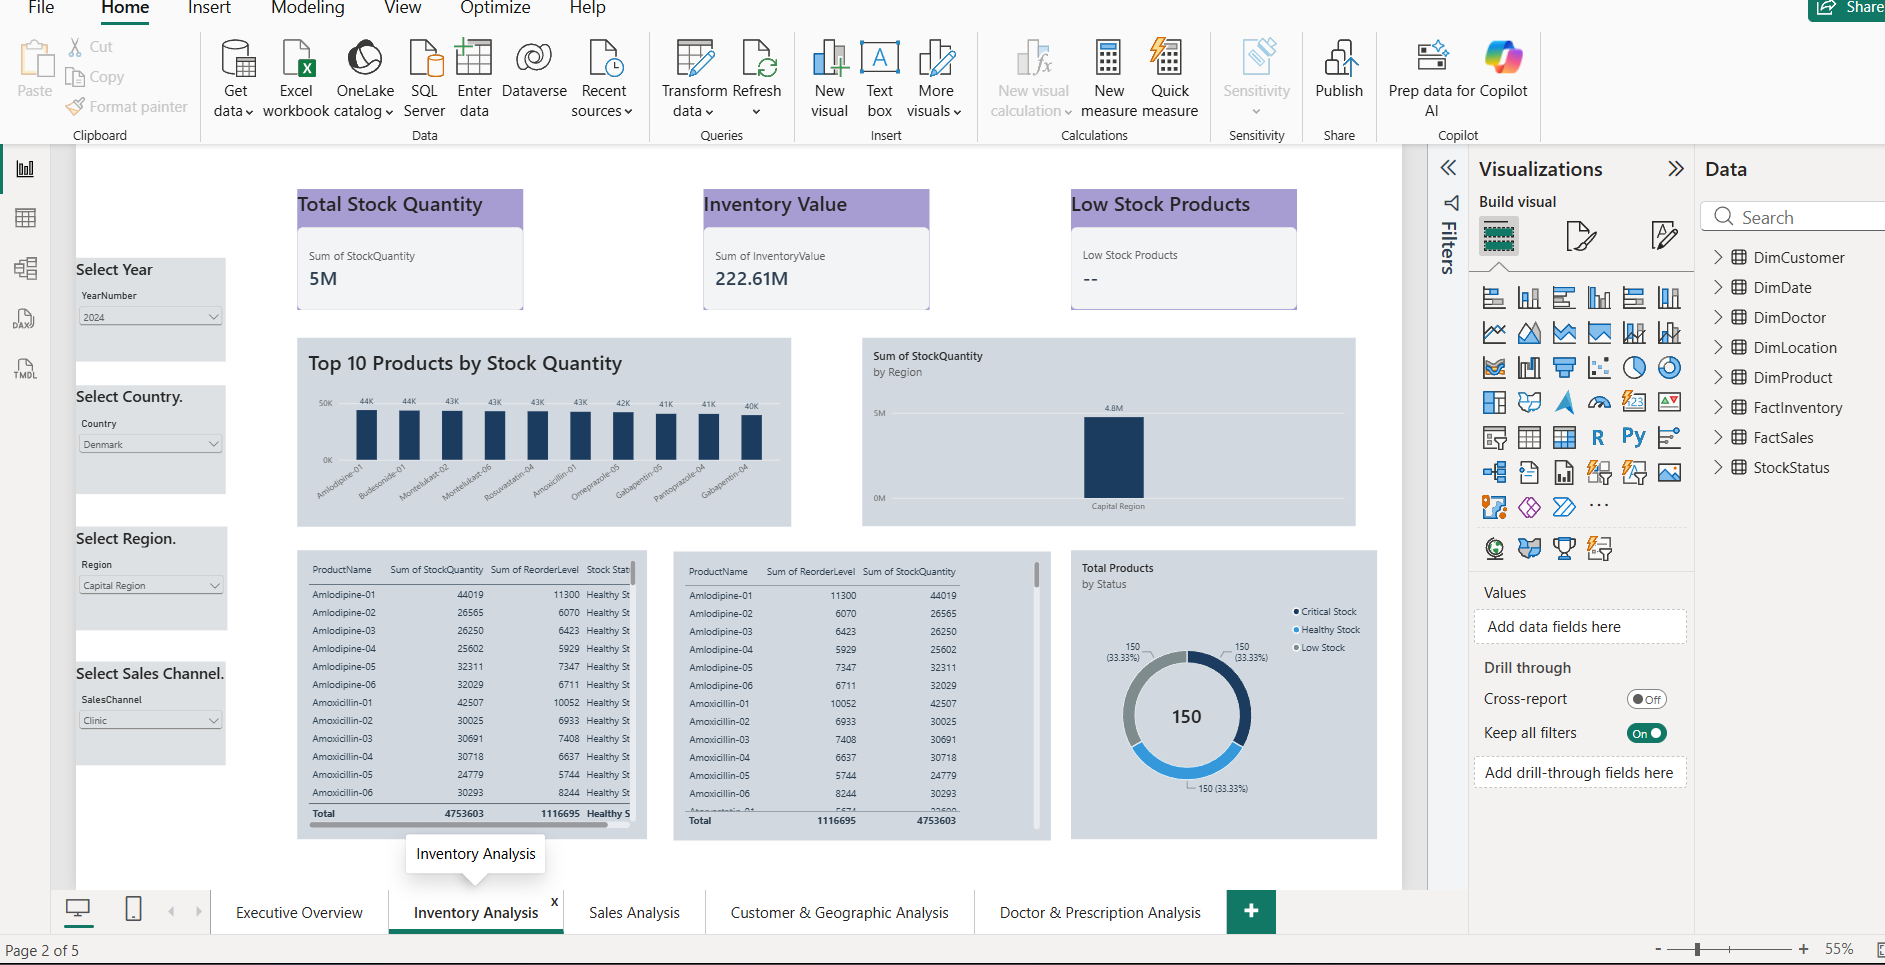

This screenshot's page, from the dashboard's own definition file:
{"tool":"powerbi","page":{"name":"Inventory Analysis","canvas":[1920,1080],"ordinal":1},"visuals":[{"type":"cardVisual","title":"Total Stock Quantity","fields":{"Data":["Sum(FactInventory.StockQuantity)"]},"box":[320.3,65.1,327.5,175.5],"z":0},{"type":"cardVisual","title":"Inventory Value","fields":{"Data":["Sum(FactInventory.InventoryValue)"]},"box":[908.4,65.1,327,175.5],"z":1000},{"type":"clusteredColumnChart","title":"Top 10 Products by Stock Quantity","fields":{"Category":["DimProduct.ProductName"],"Y":["Sum(FactInventory.StockQuantity)"]},"box":[320.3,280.5,714.8,273.3],"z":2000},{"type":"clusteredColumnChart","fields":{"Category":["DimLocation.Region"],"Y":["Sum(FactInventory.StockQuantity)"]},"box":[1138.3,280.5,714,273],"z":3000},{"type":"tableEx","fields":{"Values":["DimProduct.ProductName","Sum(FactInventory.StockQuantity)","Sum(FactInventory.ReorderLevel)","FactInventory.Stock Status"]},"box":[320.3,588.1,506.7,418],"z":4000},{"type":"cardVisual","title":"Low Stock Products","fields":{"Data":["FactInventory.Low Stock Products"]},"box":[1440.5,65.1,327,175],"z":5000},{"type":"tableEx","fields":{"Values":["DimProduct.ProductName","Sum(FactInventory.ReorderLevel)","Sum(FactInventory.StockQuantity)"]},"box":[865,589.9,546.5,418],"z":6000},{"type":"donutChart","fields":{"Category":["StockStatus.Status"],"Y":["StockStatus.Total Products"]},"box":[1440.5,588.1,443.4,418],"z":7000},{"type":"slicer","title":"Select Year","fields":{"Values":["DimDate.YearNumber"]},"box":[0,165,217,150],"z":7001},{"type":"slicer","title":"Select Country.","fields":{"Values":["DimLocation.Country"]},"box":[0,349.3,217.2,157.4],"z":7002},{"type":"slicer","title":"Select Region.","fields":{"Values":["DimLocation.Region"]},"box":[0,553.8,219,150.2],"z":7003},{"type":"slicer","title":"Select Sales Channel.","fields":{"Values":["FactSales.SalesChannel"]},"box":[0,749.2,217.2,150.2],"z":7004}]}

Visuals, with their boxes on the page's 1920x1080 design canvas (x1, y1, x2, y2). These are canvas units, not pixel positions in the 1885x965 screenshot, which may show the page scaled, cropped or inside an application window:
"Total Stock Quantity" cardVisual: select_region(320, 65, 648, 241)
"Inventory Value" cardVisual: select_region(908, 65, 1235, 241)
"Top 10 Products by Stock Quantity" clusteredColumnChart: select_region(320, 280, 1035, 554)
clusteredColumnChart - DimLocation.Region x Sum(FactInventory.StockQuantity): select_region(1138, 280, 1852, 554)
tableEx - DimProduct.ProductName x Sum(FactInventory.StockQuantity): select_region(320, 588, 827, 1006)
"Low Stock Products" cardVisual: select_region(1440, 65, 1768, 240)
tableEx - DimProduct.ProductName x Sum(FactInventory.ReorderLevel): select_region(865, 590, 1412, 1008)
donutChart - StockStatus.Status x StockStatus.Total Products: select_region(1440, 588, 1884, 1006)
"Select Year" slicer: select_region(0, 165, 217, 315)
"Select Country." slicer: select_region(0, 349, 217, 507)
"Select Region." slicer: select_region(0, 554, 219, 704)
"Select Sales Channel." slicer: select_region(0, 749, 217, 899)
